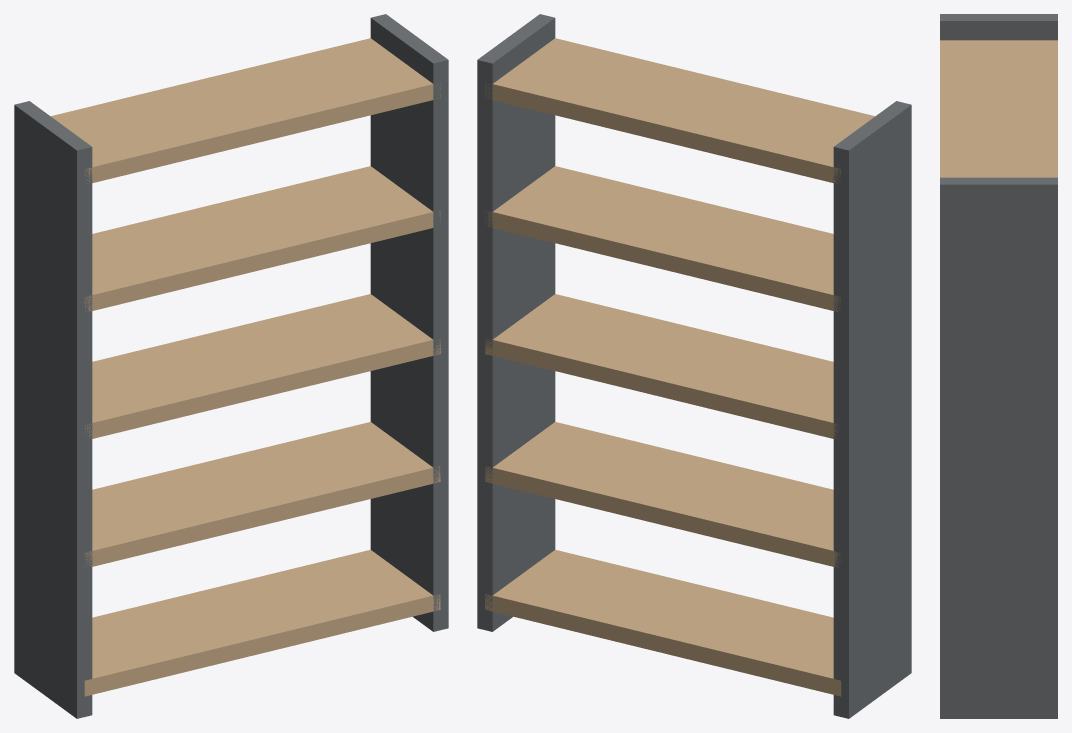
File: shelf_03.glb
3 views of the same model, side by side, from view 1: azimuth 30°, elevation 25°; view 2: azimuth 150°, elevation 25°; view 3: azimuth 270°, elevation 25° (orthographic). The views are drawn at different scales.
Parts seen in each view (by area): view 1: side-0.525, side0.525, shelf4, shelf0, shelf1, shelf3, shelf2; view 2: side-0.525, side0.525, shelf4, shelf0, shelf1, shelf3, shelf2; view 3: side0.525, shelf4, side-0.525.
Part boxes in pixels (left/top/right/bottom): side-0.525: left=14, top=101, right=92, bottom=718; side0.525: left=370, top=14, right=448, bottom=631; shelf4: left=51, top=38, right=440, bottom=182; shelf0: left=84, top=549, right=440, bottom=696; shelf1: left=84, top=422, right=440, bottom=567; shelf3: left=84, top=166, right=440, bottom=311; shelf2: left=85, top=294, right=440, bottom=438; side-0.525: left=833, top=101, right=911, bottom=718; side0.525: left=477, top=14, right=555, bottom=631; shelf4: left=485, top=38, right=874, bottom=183; shelf0: left=485, top=549, right=841, bottom=696; shelf1: left=485, top=422, right=841, bottom=567; shelf3: left=485, top=166, right=840, bottom=312; shelf2: left=485, top=294, right=840, bottom=439; side0.525: left=940, top=177, right=1057, bottom=718; shelf4: left=940, top=40, right=1057, bottom=177; side-0.525: left=940, top=14, right=1057, bottom=40.
Bounding box in the file's own units: 1.1 × 1.6 × 0.32.
